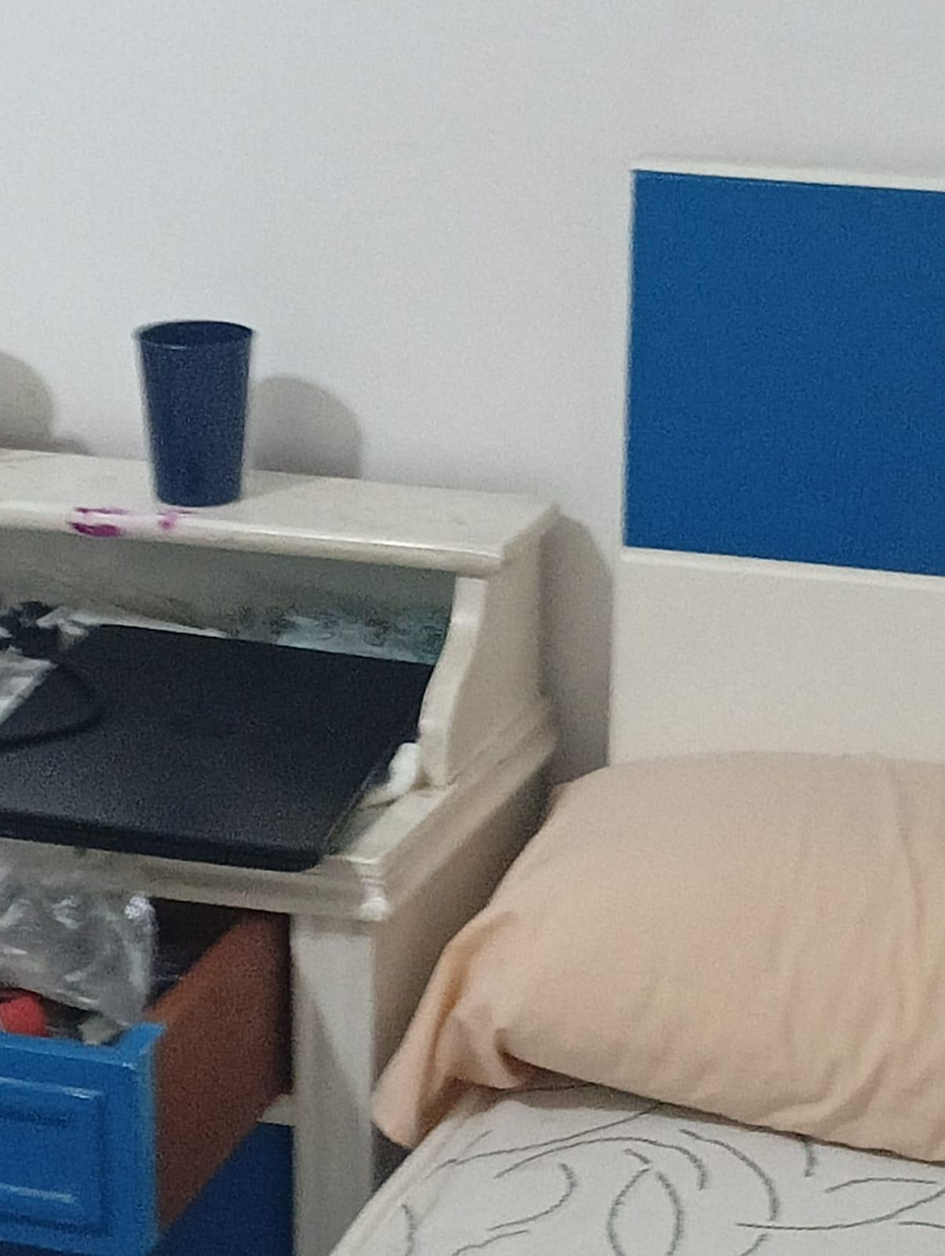cup: (136, 321, 252, 506)
